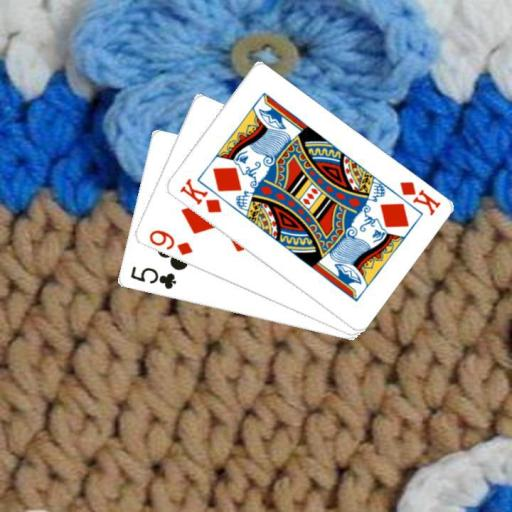5C: (127, 263, 177, 291)
9D: (145, 226, 194, 258)
KD: (177, 175, 224, 215), (396, 178, 442, 217)
